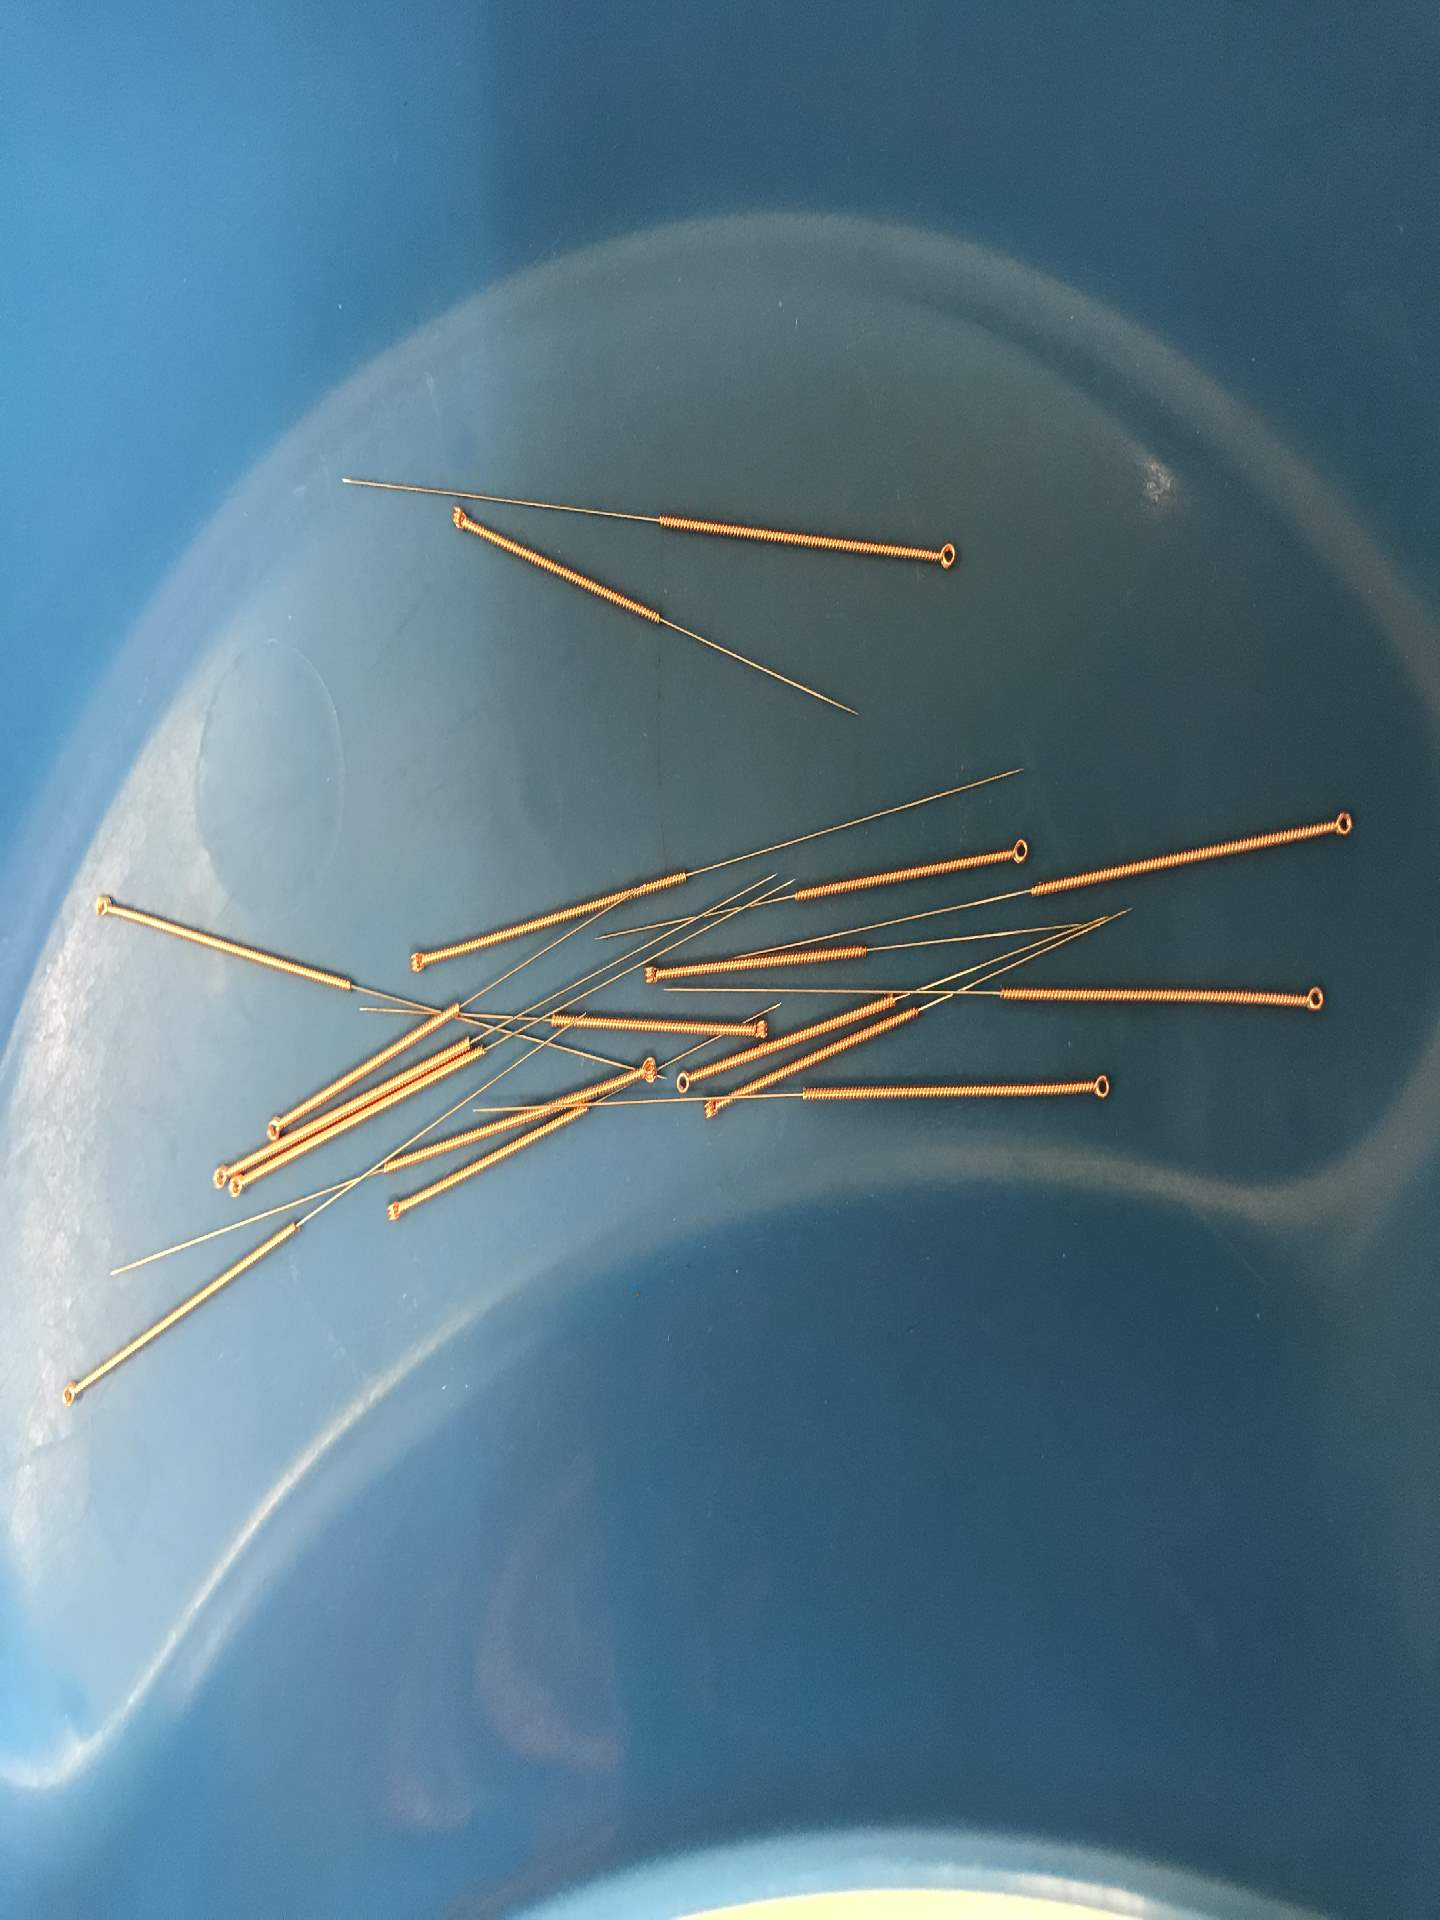needle: (1289, 975, 1331, 1020), (1075, 1064, 1119, 1107), (439, 502, 483, 543), (83, 884, 126, 925), (923, 538, 965, 578), (51, 1373, 91, 1415), (375, 1191, 414, 1231), (628, 1051, 664, 1090), (693, 1092, 731, 1128), (402, 942, 439, 980), (1321, 804, 1355, 841), (998, 835, 1033, 869), (635, 958, 669, 992), (667, 1064, 699, 1098), (259, 1108, 287, 1144), (206, 1158, 234, 1194), (741, 1013, 771, 1045), (225, 1172, 254, 1203)
